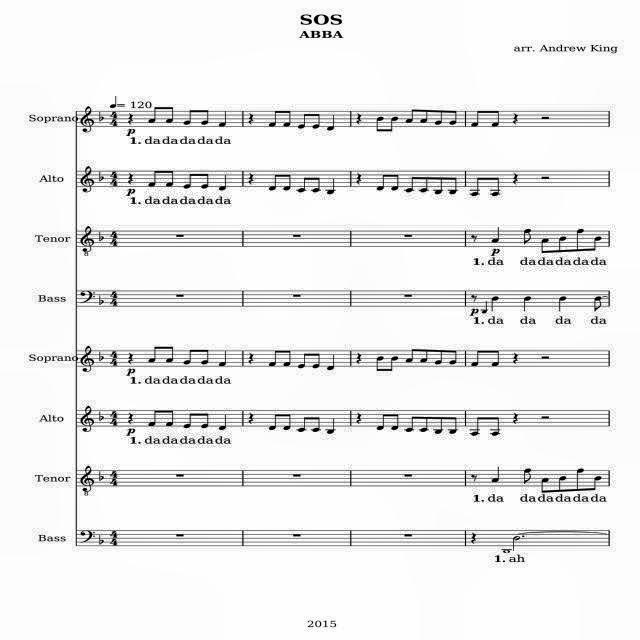Bass-clef: (80, 464, 96, 492), (79, 226, 95, 252), (81, 106, 95, 134), (80, 344, 94, 372), (80, 165, 94, 192), (80, 406, 94, 432)
Bemol: (97, 295, 105, 305), (98, 231, 106, 241), (97, 171, 105, 181), (99, 351, 105, 362), (99, 111, 105, 122), (98, 535, 104, 545), (97, 471, 103, 481), (99, 411, 105, 421)
Eighth-note: (570, 228, 586, 252), (575, 468, 587, 492), (488, 415, 500, 437), (468, 109, 482, 127), (471, 176, 482, 198), (488, 177, 499, 199), (148, 168, 160, 188), (164, 168, 176, 188), (374, 172, 386, 192), (198, 346, 210, 366), (267, 348, 279, 368), (469, 348, 481, 368), (470, 415, 480, 437), (148, 105, 160, 123), (164, 105, 176, 123), (268, 173, 280, 191), (418, 175, 430, 193), (554, 236, 566, 254), (592, 295, 604, 313), (282, 349, 294, 367), (148, 409, 160, 427), (164, 409, 176, 427), (592, 474, 604, 492), (432, 177, 443, 196), (280, 414, 292, 431), (389, 172, 399, 192), (147, 344, 157, 364), (448, 416, 459, 434), (267, 110, 279, 126), (296, 112, 308, 128), (386, 116, 398, 132), (489, 110, 501, 126), (590, 236, 602, 252), (182, 348, 194, 364), (296, 352, 308, 368), (310, 352, 322, 368), (386, 356, 398, 372), (404, 346, 416, 362), (182, 412, 194, 428), (296, 416, 308, 432), (556, 476, 568, 492), (282, 109, 292, 128), (183, 171, 193, 189), (200, 172, 210, 190), (282, 173, 292, 191), (299, 175, 309, 193), (311, 176, 321, 194), (405, 175, 415, 193), (449, 175, 458, 195), (491, 348, 501, 366), (268, 413, 278, 431), (376, 412, 386, 430), (389, 413, 399, 431), (406, 415, 416, 433), (434, 416, 444, 434), (522, 228, 532, 245), (420, 108, 432, 122), (183, 109, 193, 125), (311, 112, 321, 128), (405, 108, 415, 124), (447, 110, 457, 126), (539, 238, 549, 254), (199, 413, 209, 429), (523, 468, 533, 484), (539, 478, 549, 494), (166, 345, 174, 363), (418, 350, 430, 362), (436, 348, 444, 366), (312, 416, 321, 432), (420, 415, 428, 433), (450, 349, 458, 366), (201, 108, 209, 124), (374, 116, 382, 132), (434, 109, 442, 125), (376, 356, 384, 372)
Eighth-rest: (470, 234, 478, 242), (470, 474, 478, 482), (471, 294, 477, 302)
Full-note: (502, 550, 510, 554)
Half-note: (512, 536, 520, 552)
Quarter-note: (326, 417, 338, 435), (216, 110, 228, 126), (324, 115, 336, 131), (556, 296, 568, 312), (489, 225, 499, 243), (218, 413, 228, 431), (326, 353, 336, 371), (326, 178, 336, 194), (219, 349, 227, 366), (218, 174, 226, 190), (490, 296, 498, 312), (524, 296, 532, 312), (492, 466, 500, 482), (110, 95, 118, 109)
Quarter-rest: (126, 352, 136, 364), (512, 112, 520, 126), (247, 112, 256, 124), (512, 172, 520, 185), (126, 112, 134, 124), (356, 112, 364, 124), (248, 172, 256, 184), (355, 172, 363, 184), (248, 352, 256, 364), (512, 352, 520, 364), (126, 412, 134, 424), (246, 412, 254, 424), (512, 412, 520, 424), (470, 532, 478, 544), (126, 173, 134, 183), (356, 352, 362, 364), (356, 412, 362, 424)
